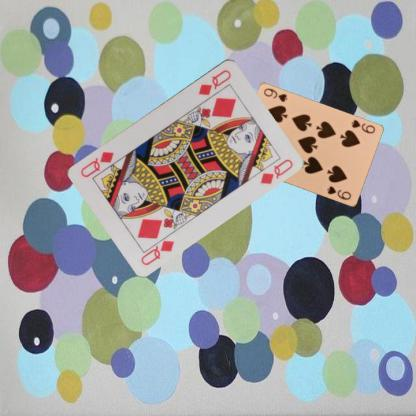9s: (349, 117, 376, 135)
Qd: (138, 230, 176, 266), (196, 66, 232, 96)
